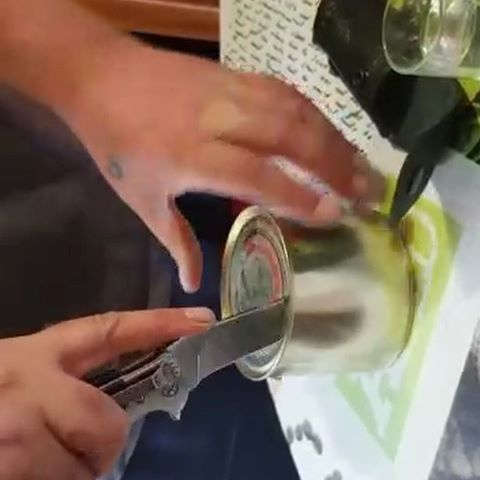knife: (83, 298, 286, 421)
